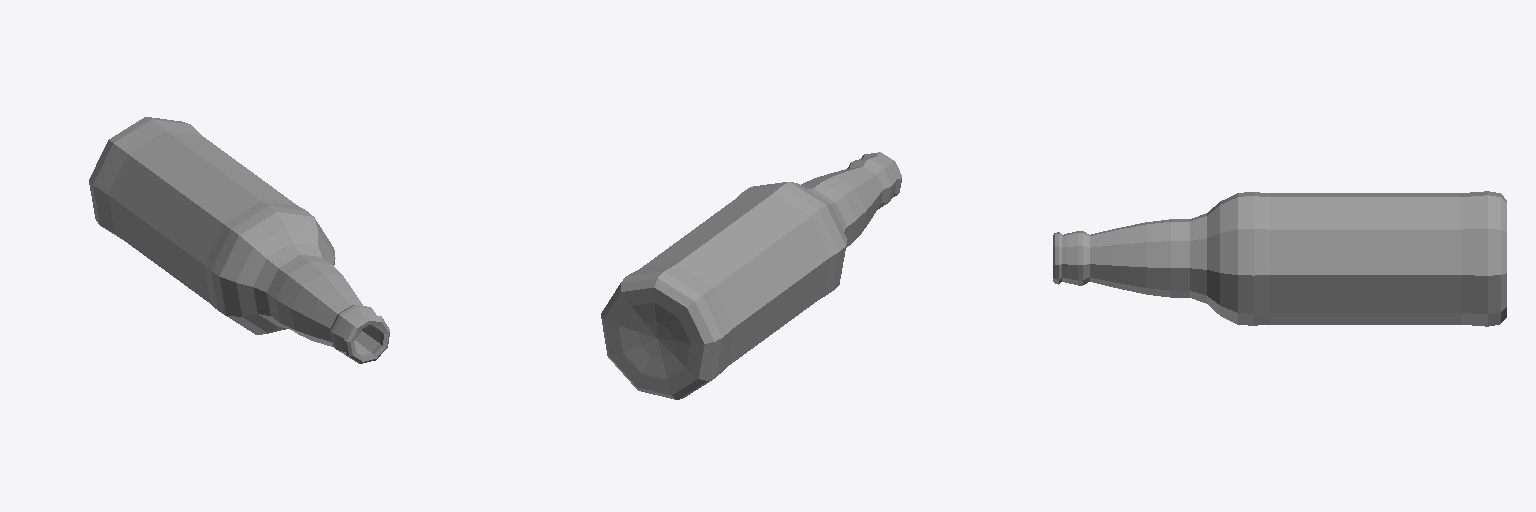
The model's file is bottle1.obj.
3 views of the same model, side by side, from view 1: azimuth 30°, elevation 25°; view 2: azimuth 150°, elevation 25°; view 3: azimuth 270°, elevation 25° (orthographic).
Visible parts, largest first — view 1: beeeer_Mesh; view 2: beeeer_Mesh; view 3: beeeer_Mesh.
Part boxes in pixels (x1,y1,x2,y2): beeeer_Mesh: (89, 117, 389, 363); beeeer_Mesh: (601, 152, 901, 399); beeeer_Mesh: (1053, 191, 1506, 326).
Size of the model in its own units: 0.0734 by 0.0723 by 0.2455.